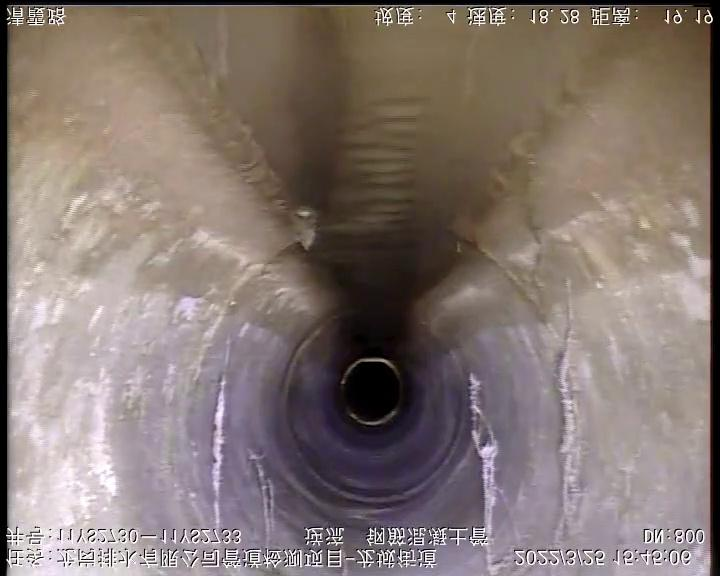SG: (553, 324, 581, 543), (468, 373, 499, 542), (248, 451, 274, 540), (211, 377, 225, 523), (487, 550, 500, 576)
